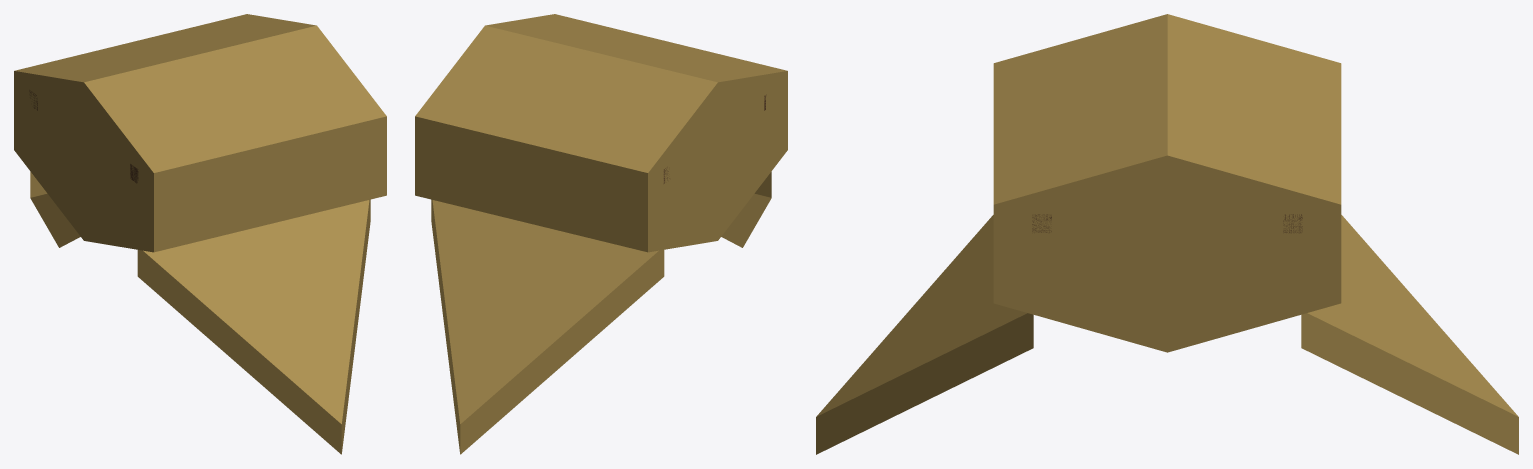
The model's file is VergeRidgeThatch.fbx.
The picture shows the model from 3 angles, left to right: view 1: azimuth 30°, elevation 25°; view 2: azimuth 150°, elevation 25°; view 3: azimuth 270°, elevation 25°; orthographic projection. The views are drawn at different scales.
Parts seen in each view (by area): view 1: Kit_VergeRidgeThatch; view 2: Kit_VergeRidgeThatch; view 3: Kit_VergeRidgeThatch.
Part boxes in pixels (x1=…): Kit_VergeRidgeThatch: x1=14, y1=14, x2=386, y2=454; Kit_VergeRidgeThatch: x1=415, y1=14, x2=787, y2=454; Kit_VergeRidgeThatch: x1=816, y1=14, x2=1518, y2=454.
Size of the model in its own units: 0.4 by 0.4882 by 0.84.
